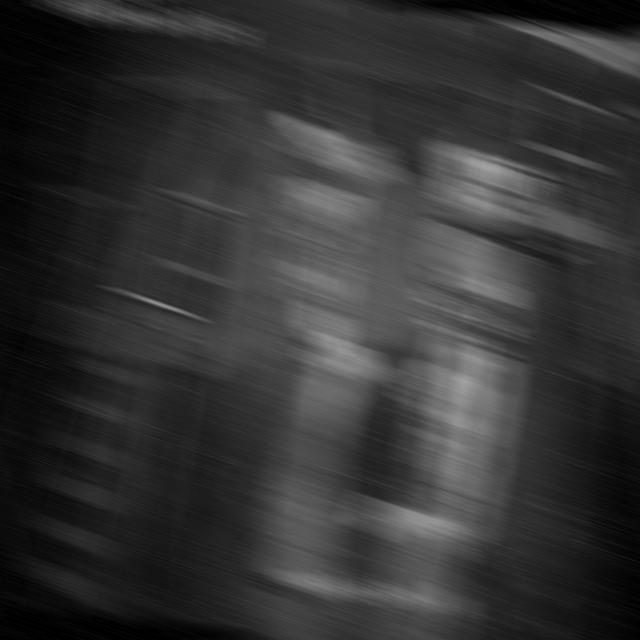cement_mixer_truck: (321, 278, 458, 486)
